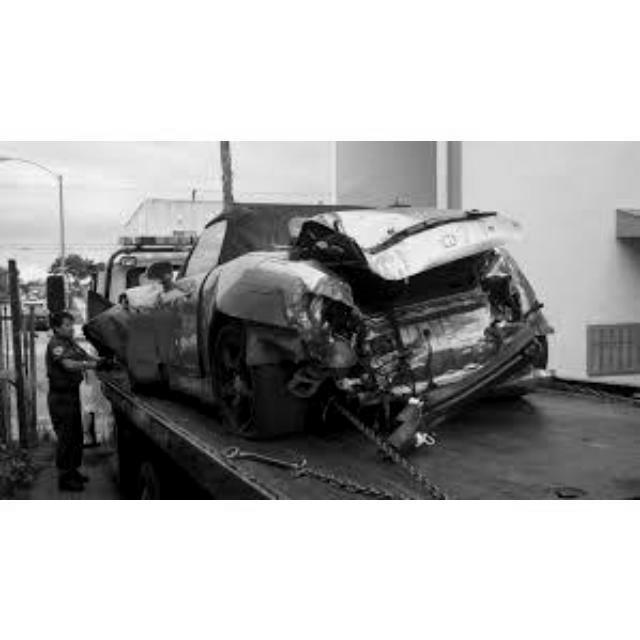rear-bumper-dent: (334, 312, 503, 395)
